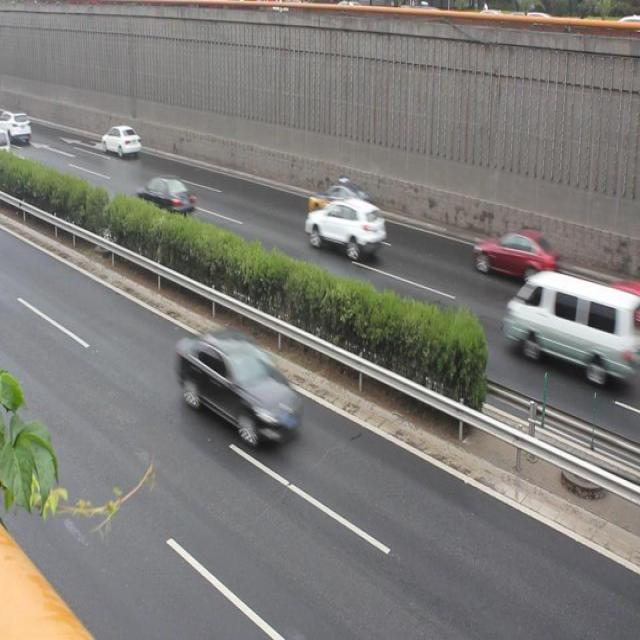car: (175, 324, 296, 450), (468, 221, 554, 286), (303, 197, 384, 262), (137, 170, 197, 220), (304, 178, 368, 223), (98, 121, 143, 162)
truck: (503, 271, 622, 386)
